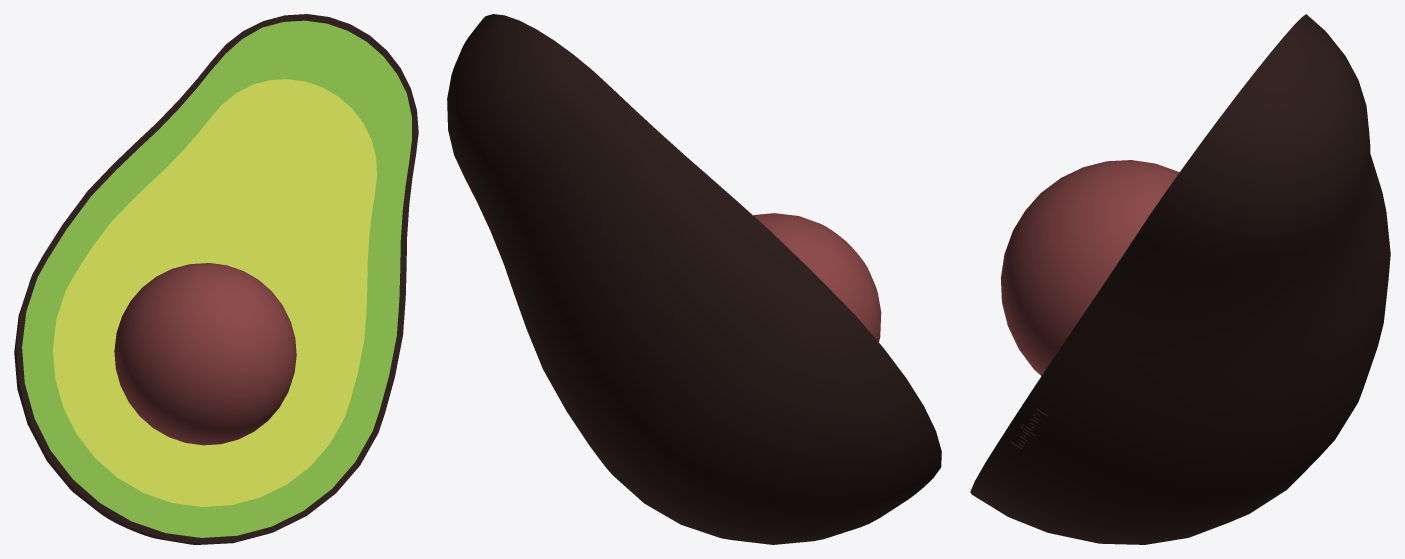
The model's file is avocado.glb.
The picture shows the model from 3 angles, left to right: view 1: azimuth 30°, elevation 25°; view 2: azimuth 150°, elevation 25°; view 3: azimuth 270°, elevation 25°; orthographic projection. The views are drawn at different scales.
Visible parts, largest first — view 1: Sphere.482; view 2: Sphere.482; view 3: Sphere.482.
Boxes of the visible parts, left/top/right/bottom form: Sphere.482: left=14, top=14, right=418, bottom=544; Sphere.482: left=447, top=14, right=941, bottom=544; Sphere.482: left=970, top=14, right=1390, bottom=544.
Size of the model in its own units: 2.26 by 2.4 by 1.55.
1 material, 1 textured.
